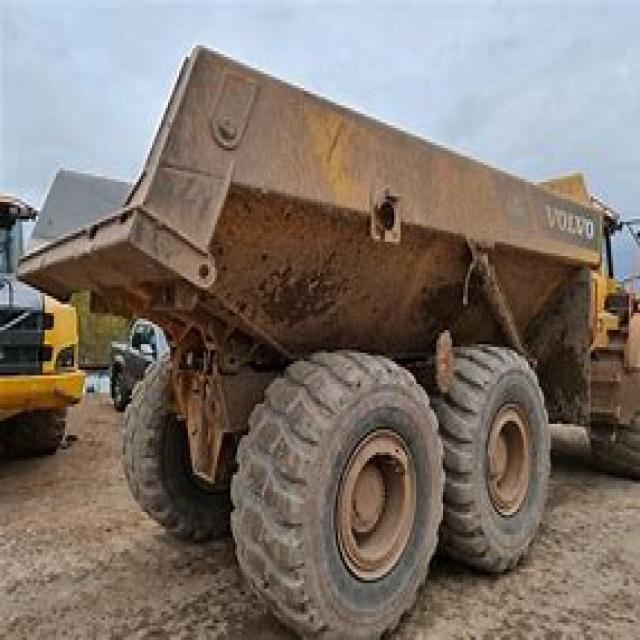dump_truck: (25, 40, 638, 637)
